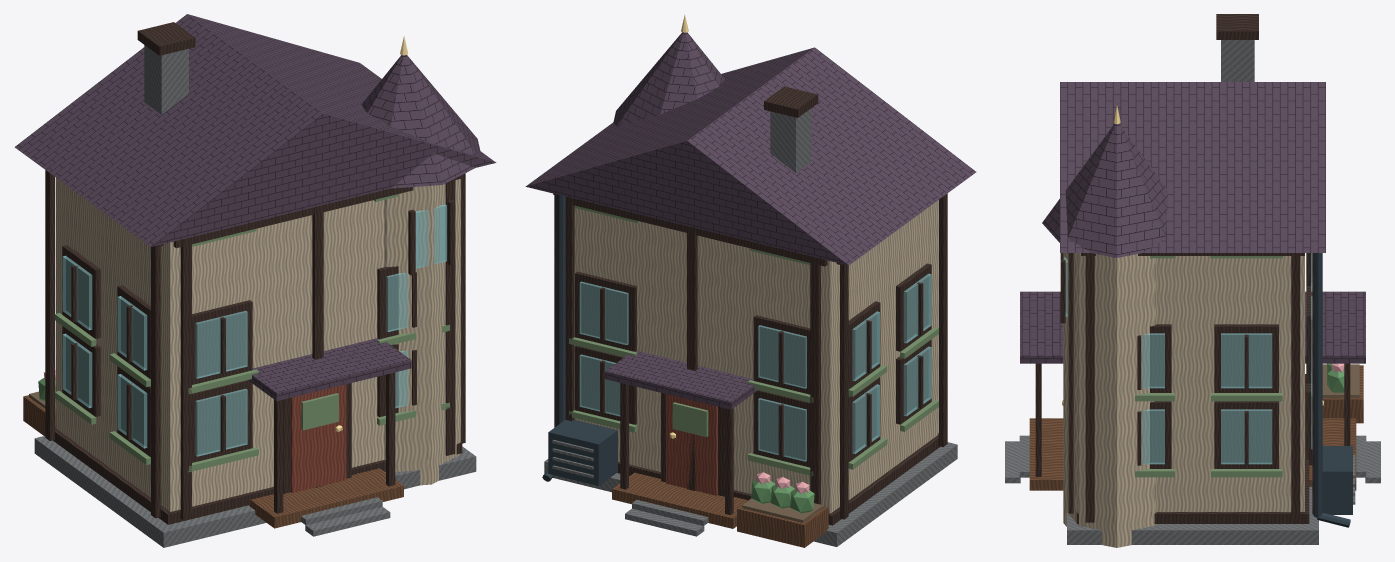
File: house_tudor_lv5_tower.glb
3 renders of one model, left to right at view 1: azimuth 30°, elevation 25°; view 2: azimuth 150°, elevation 25°; view 3: azimuth 270°, elevation 25°, orthographic. The views are drawn at different scales.
Visible parts, largest first — view 1: gable_roof, walls, tower, tower_roof, foundation, front_porch_canopy, front_door, front_window_frame.002, front_deck, front_window_frame, front_timber, floor_trim (+31 smaller); view 2: gable_roof, walls, tower_roof, back_porch_canopy, foundation, back_window_frame.003, back_door, back_window_frame.002, back_ac_unit, back_window_frame, back_deck, back_window_frame.001 (+32 smaller); view 3: gable_roof, walls, tower, tower_roof, foundation, right_window_frame.003, right_window_frame.001, back_porch_canopy, front_porch_canopy, right_window_glass.001, right_window_glass.003, right_timber (+27 smaller).
Part boxes in pixels (x1=…): gable_roof: x1=14, y1=14, x2=496, y2=246; walls: x1=55, y1=178, x2=384, y2=511; tower: x1=384, y1=179, x2=460, y2=485; tower_roof: x1=361, y1=55, x2=480, y2=188; foundation: x1=34, y1=436, x2=476, y2=547; front_porch_canopy: x1=248, y1=338, x2=411, y2=401; front_door: x1=290, y1=384, x2=346, y2=492; front_window_frame.002: x1=192, y1=300, x2=252, y2=384; front_deck: x1=249, y1=468, x2=403, y2=528; front_window_frame: x1=192, y1=380, x2=252, y2=462; front_timber: x1=180, y1=237, x2=191, y2=520; floor_trim: x1=53, y1=426, x2=462, y2=524; gable_roof: x1=525, y1=47, x2=976, y2=265; walls: x1=574, y1=200, x2=938, y2=513; tower_roof: x1=613, y1=32, x2=724, y2=126; back_porch_canopy: x1=605, y1=351, x2=757, y2=409; foundation: x1=544, y1=442, x2=957, y2=546; back_window_frame.003: x1=575, y1=271, x2=636, y2=351; back_door: x1=666, y1=394, x2=717, y2=495; back_window_frame.002: x1=753, y1=315, x2=810, y2=394; back_ac_unit: x1=548, y1=419, x2=617, y2=485; back_window_frame: x1=753, y1=390, x2=810, y2=467; back_deck: x1=612, y1=472, x2=747, y2=528; back_window_frame.001: x1=575, y1=345, x2=636, y2=424; gable_roof: x1=1060, y1=82, x2=1325, y2=252; walls: x1=1156, y1=256, x2=1304, y2=511; tower: x1=1063, y1=253, x2=1156, y2=547; tower_roof: x1=1042, y1=123, x2=1167, y2=257; foundation: x1=1067, y1=486, x2=1318, y2=544; right_window_frame.003: x1=1214, y1=324, x2=1278, y2=392; right_window_frame.001: x1=1214, y1=401, x2=1278, y2=468; back_porch_canopy: x1=1305, y1=291, x2=1365, y2=363; front_porch_canopy: x1=1020, y1=291, x2=1063, y2=363; right_window_glass.001: x1=1221, y1=409, x2=1272, y2=464; right_window_glass.003: x1=1221, y1=333, x2=1272, y2=388; right_timber: x1=1085, y1=253, x2=1094, y2=522.
Size of the model in its own units: 6.6 by 7.6 by 6.19.
13 materials, 7 textured.
